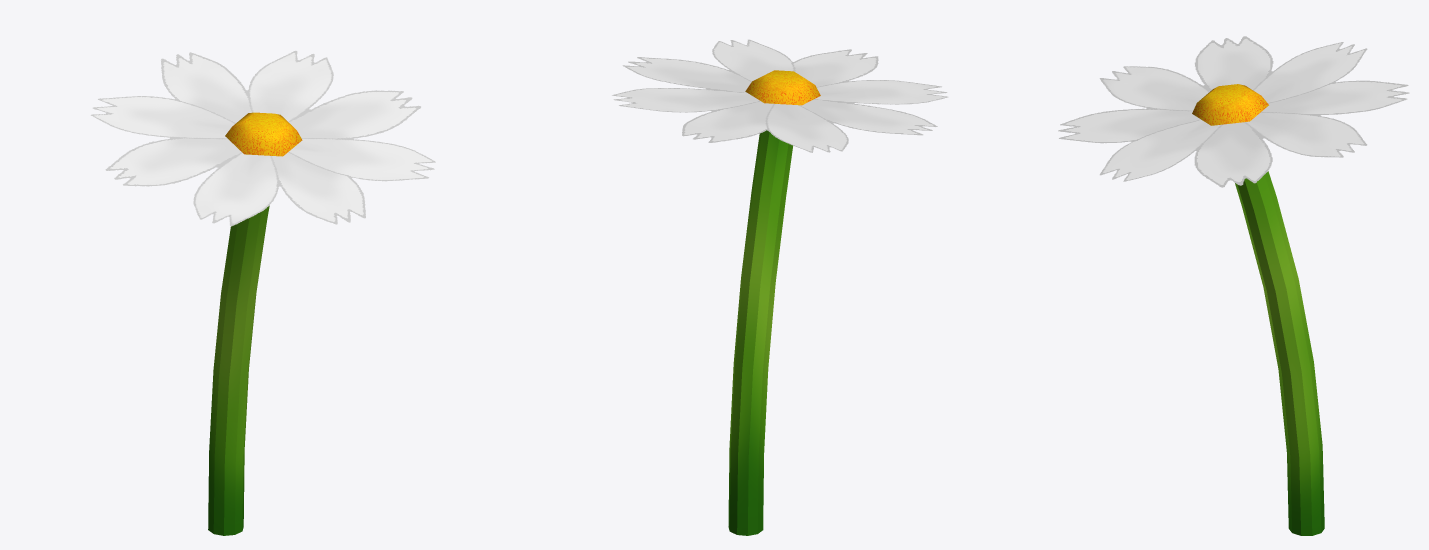
Rendered from White_Flower.fbx.
The picture shows the model from 3 angles, left to right: view 1: azimuth 30°, elevation 25°; view 2: azimuth 150°, elevation 25°; view 3: azimuth 270°, elevation 25°; orthographic projection. The views are drawn at different scales.
Visible parts, largest first — view 1: White_Flower; view 2: White_Flower; view 3: White_Flower.
Part boxes in pixels (<box>): White_Flower: <box>90,50,435,535</box>; White_Flower: <box>612,39,948,535</box>; White_Flower: <box>1058,36,1409,535</box>.
Bounding box in the file's own units: 94.48 × 125 × 93.77.
